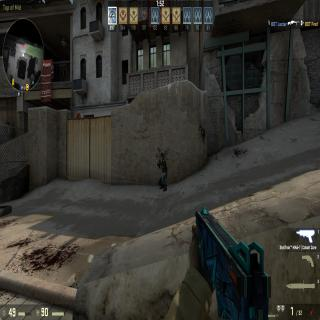T-Body: (157, 152, 167, 191)
T-Head: (159, 152, 164, 162)
